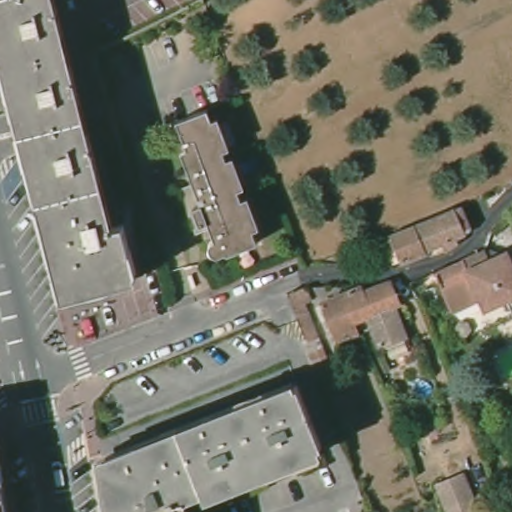pool: (405, 375, 440, 402)
